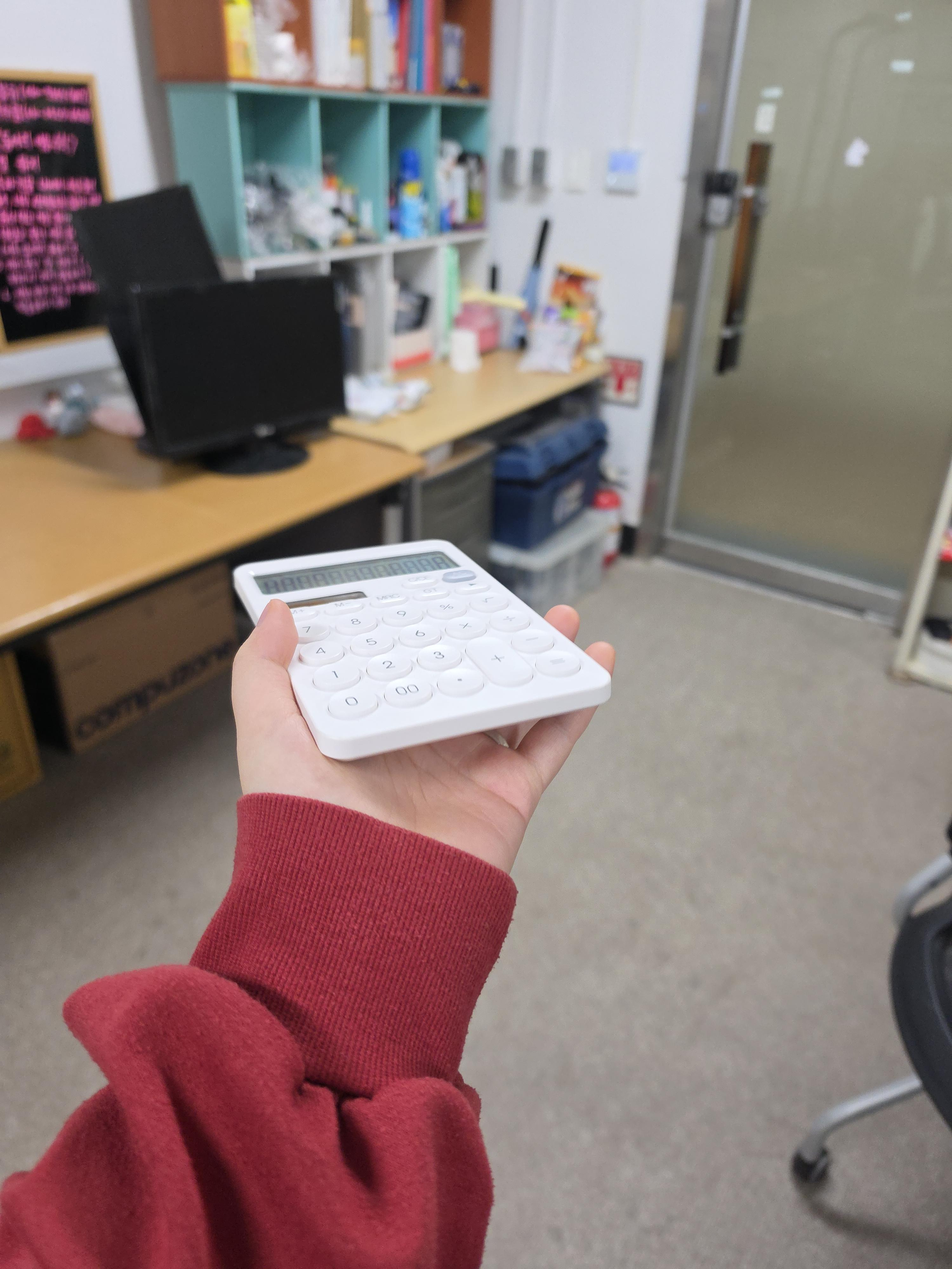calculator: (232, 539, 612, 761)
